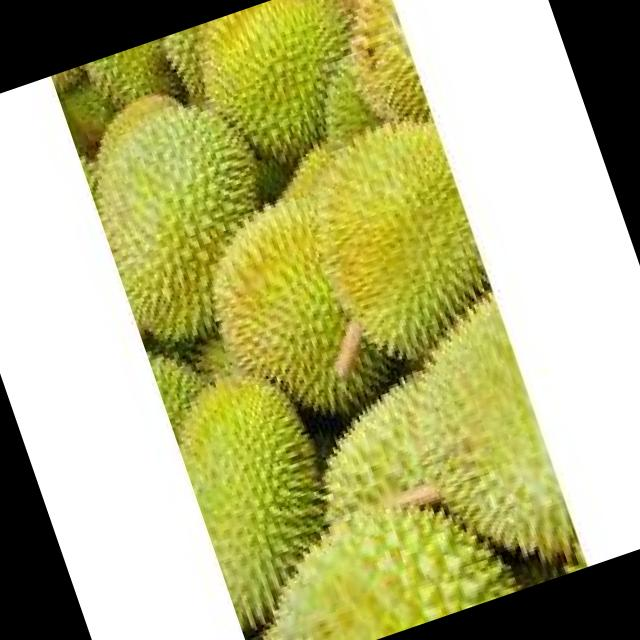fruit: (156, 130, 520, 474), (155, 337, 396, 640)
